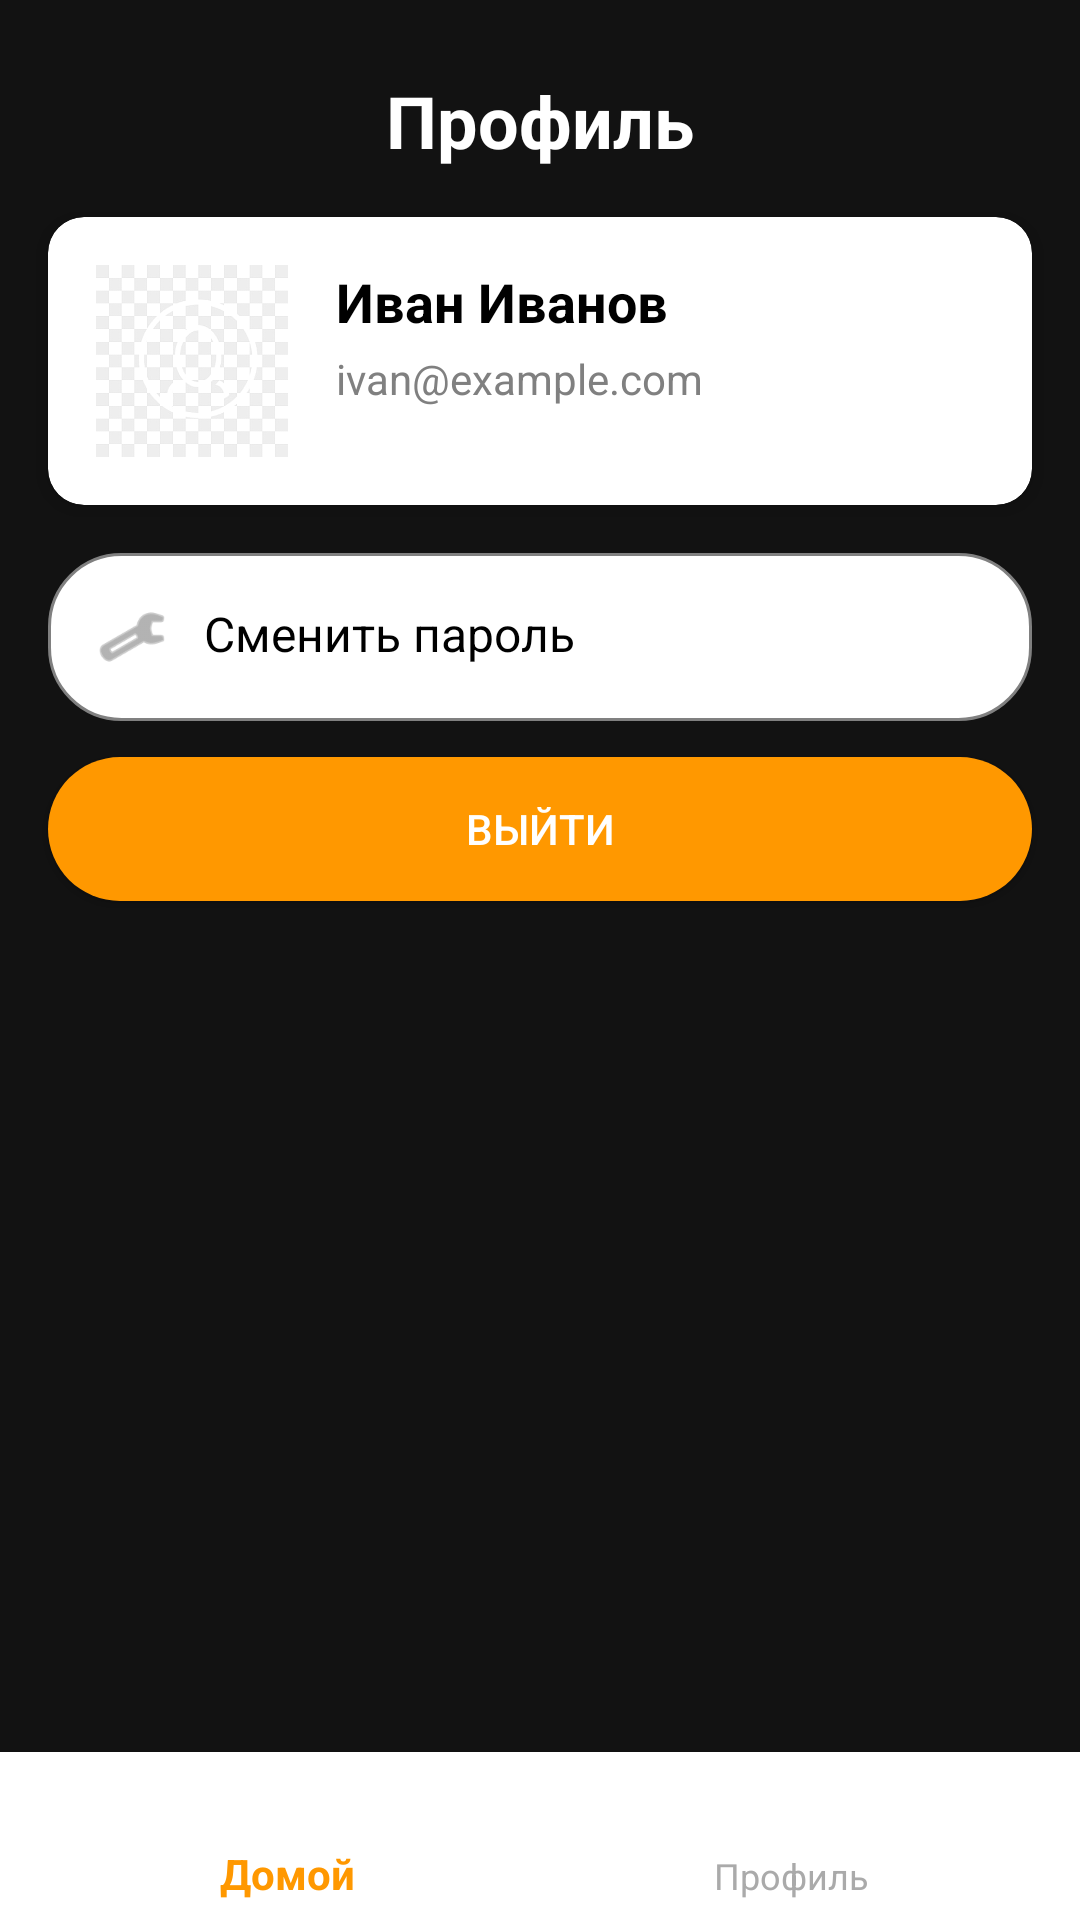

Screen size 1080 x 1920. Icon name, then its box in pixels as detection(x1, y1, x2, y2):
preferences: detection(100, 612, 164, 662)
